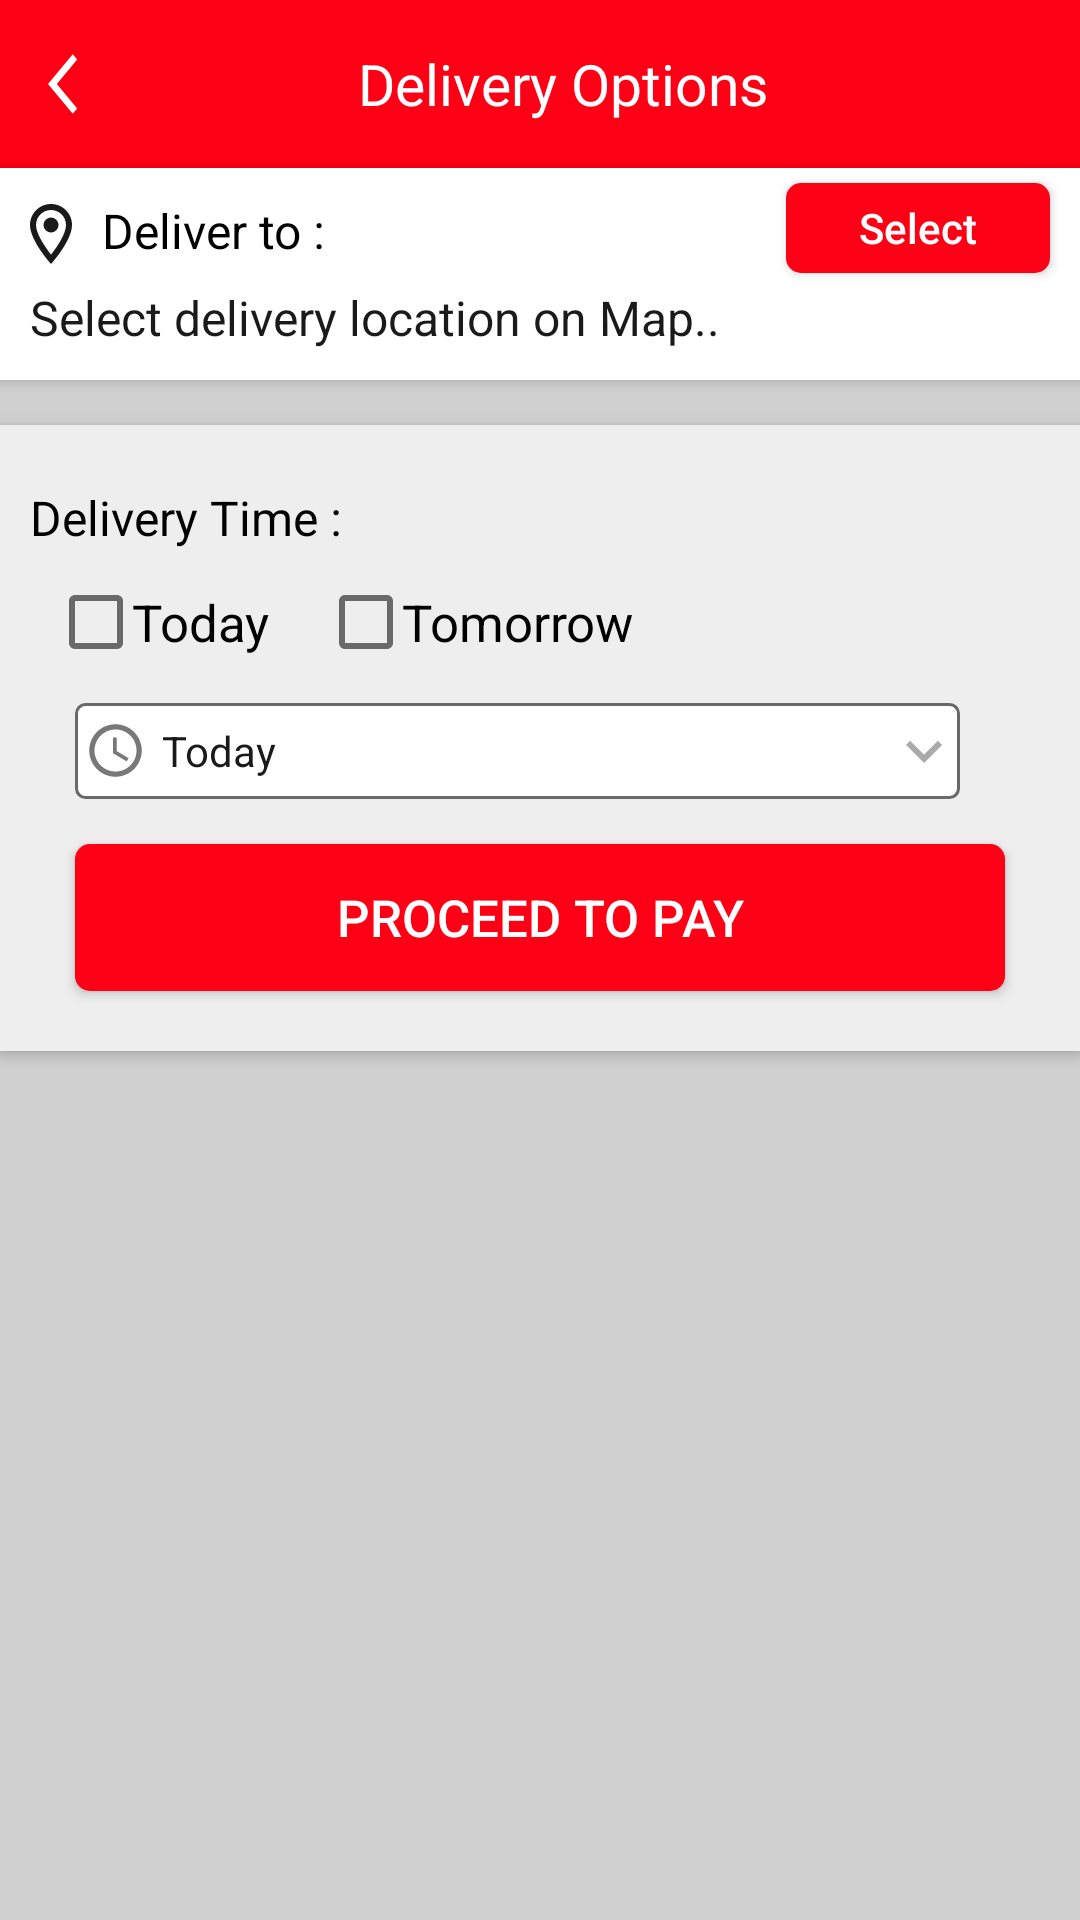

Icons on this 1080px x 1920px Android screen, each with its box as bbox(x1, y1, x2, y2):
arrow back: bbox(48, 54, 77, 114)
